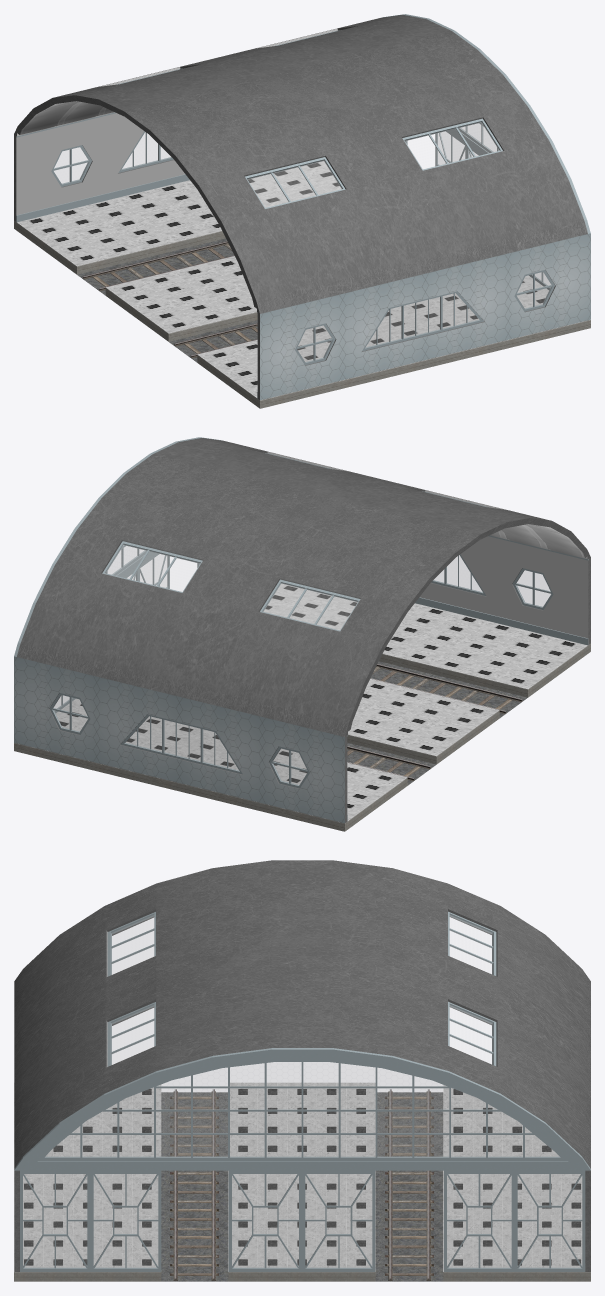
The model's file is Station02_A.FBX.
3 renders of one model, top to bottom at view 1: azimuth 30°, elevation 25°; view 2: azimuth 150°, elevation 25°; view 3: azimuth 270°, elevation 25°, orthographic. The views are drawn at different scales.
Visible parts, largest first — view 1: Station02Roof, Station02Wall01, Station02Floor, Station02Window01, Station02RoofWindow, Station02FloorRailway, Station02Window01Mtl, Station02Railway, Station02RoofWinds, Station02WallPanel, Station02ArcMetall, Station02Window02_; view 2: Station02Roof, Station02Wall01, Station02Floor, Station02Window01, Station02RoofWindow, Station02Window01Mtl, Station02FloorRailway, Station02Railway, Station02RoofWinds, Station02WallPanel, Station02ArcMetall, Station02Window02_; view 3: Station02Roof, Station02Floor, Station02ArcWindow, Station02Window02, Station02FloorRailway, Station02ArcMetall, Station02Window02_, Station02Arc, Station02Window02Mtl, Station02Railway, Station02RoofWindow, Station02Window02Mtl_ (+4 smaller).
Part boxes in pixels (x1,y1,x2,y2): Station02Roof: (14, 15, 587, 313); Station02Wall01: (14, 113, 590, 400); Station02Floor: (14, 161, 590, 408); Station02Window01: (54, 132, 550, 361); Station02RoofWindow: (247, 122, 499, 207); Station02FloorRailway: (77, 238, 257, 362); Station02Window01Mtl: (51, 131, 554, 365); Station02Railway: (82, 241, 257, 358); Station02RoofWinds: (117, 30, 502, 208); Station02WallPanel: (16, 112, 257, 398); Station02ArcMetall: (382, 14, 590, 233); Station02Window02_: (438, 132, 477, 164); Station02Roof: (17, 438, 590, 736); Station02Wall01: (14, 536, 590, 823); Station02Floor: (14, 583, 590, 831); Station02Window01: (53, 555, 550, 784); Station02RoofWindow: (106, 545, 357, 629); Station02Window01Mtl: (49, 554, 553, 788); Station02FloorRailway: (347, 661, 527, 785); Station02Railway: (347, 664, 522, 780); Station02RoofWinds: (102, 453, 489, 631); Station02WallPanel: (347, 535, 588, 821); Station02ArcMetall: (14, 437, 222, 656); Station02Window02_: (128, 554, 167, 587); Station02Roof: (14, 860, 590, 1168); Station02Floor: (14, 1082, 590, 1281); Station02ArcWindow: (46, 1062, 559, 1156); Station02Window02: (23, 1174, 581, 1267); Station02FloorRailway: (161, 1092, 443, 1281); Station02ArcMetall: (14, 1048, 590, 1170); Station02Window02_: (232, 1174, 371, 1267); Station02Arc: (38, 1058, 567, 1160); Station02Window02Mtl: (20, 1170, 585, 1271); Station02Railway: (170, 1089, 433, 1280); Station02RoofWindow: (111, 915, 492, 1064); Station02Window02Mtl_: (228, 1170, 375, 1271).
Bounding box in the file's own units: 36504 × 20867 × 47028.
